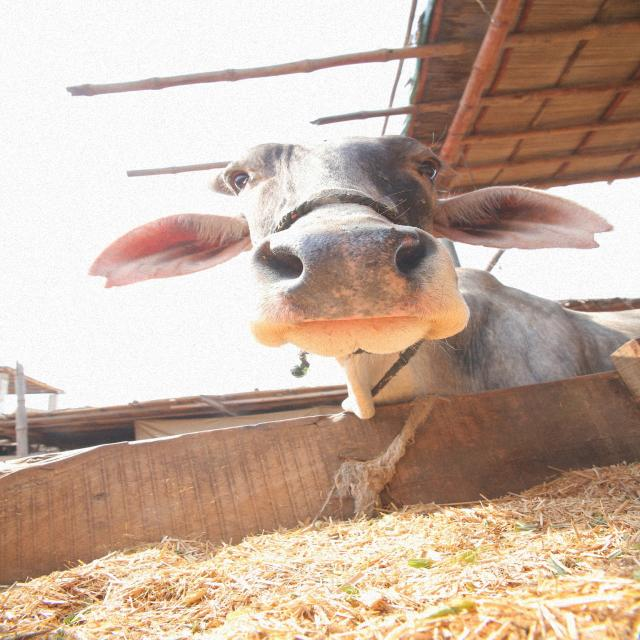muzzles: (255, 224, 446, 330)
